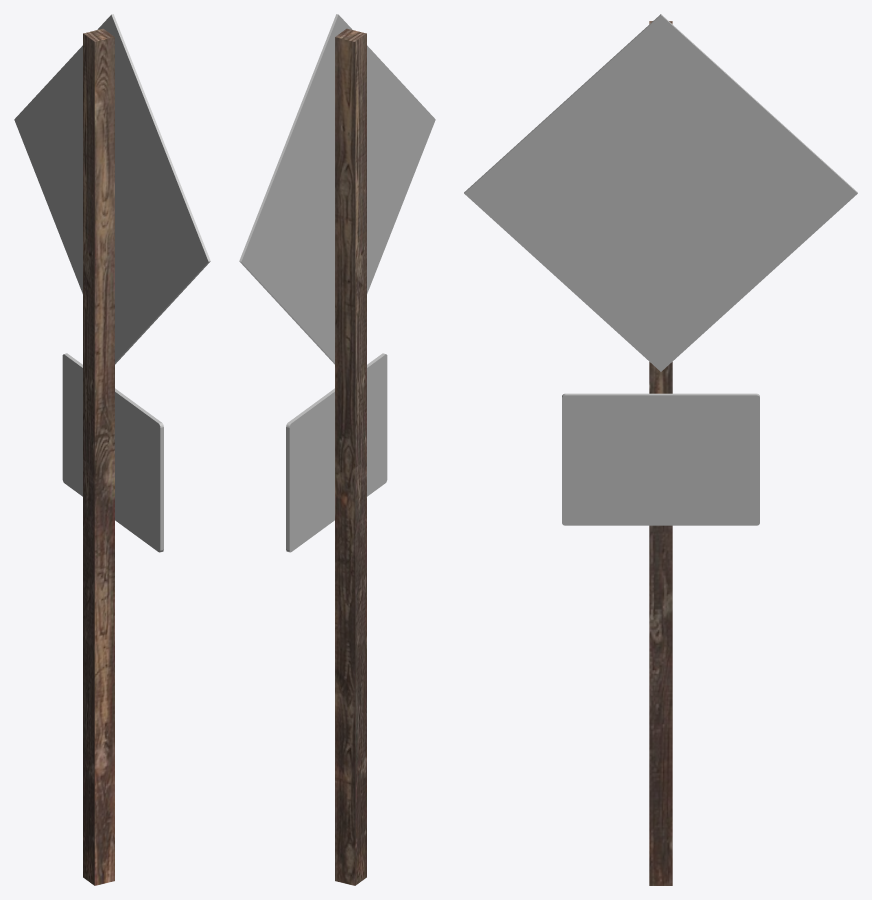
File: YOS_Sign_09_10.fbx
3 views of the same model, side by side, from view 1: azimuth 30°, elevation 25°; view 2: azimuth 150°, elevation 25°; view 3: azimuth 270°, elevation 25° (orthographic).
Visible parts, largest first — view 1: WoodPost_2, Cube, Sign; view 2: WoodPost_2, Cube, Sign; view 3: Cube, Sign, WoodPost_2.
Part boxes in pixels (x1,y1,x2,y2): WoodPost_2: (83,28,114,885); Cube: (14,14,210,364); Sign: (62,353,163,552); WoodPost_2: (335,28,366,885); Cube: (239,14,435,364); Sign: (286,353,387,552); Cube: (464,14,857,371); Sign: (562,393,759,525); WoodPost_2: (649,21,672,885).
Bounding box in the file's own units: 6.46 × 204 × 83.49.
